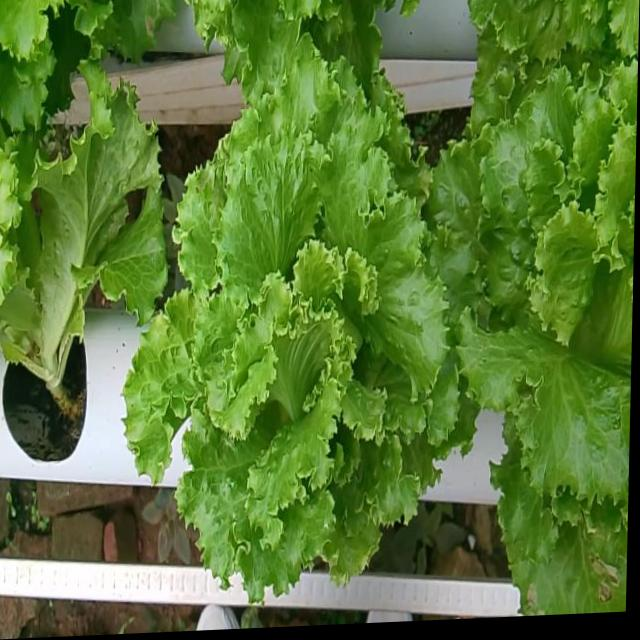Mature: (131, 66, 465, 608), (435, 75, 636, 516)
